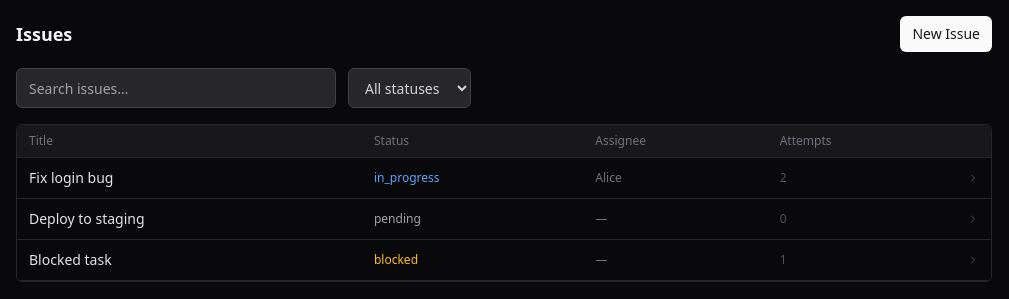
Test case: Issues status filter › "All statuses" option shows all issues
Check: the text "Fix login bug" is shown, box [17,158,362,198]
Step 1. Select "pending" in the dropdown → x=410, y=88, box [348,68,471,108]
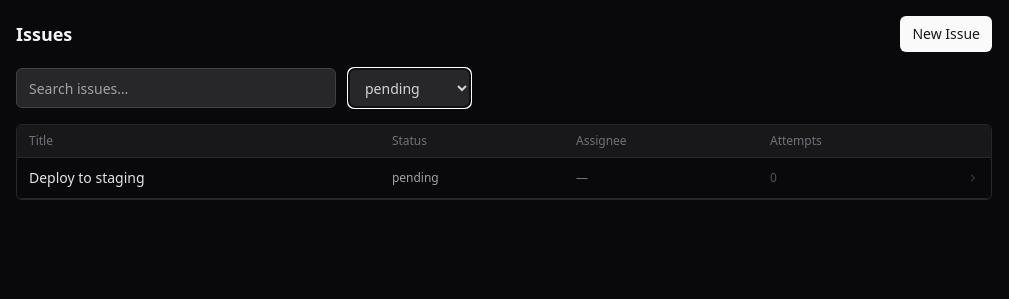
Step 2. Select "All statuses" in the dropdown → x=410, y=88, box [348,68,471,108]
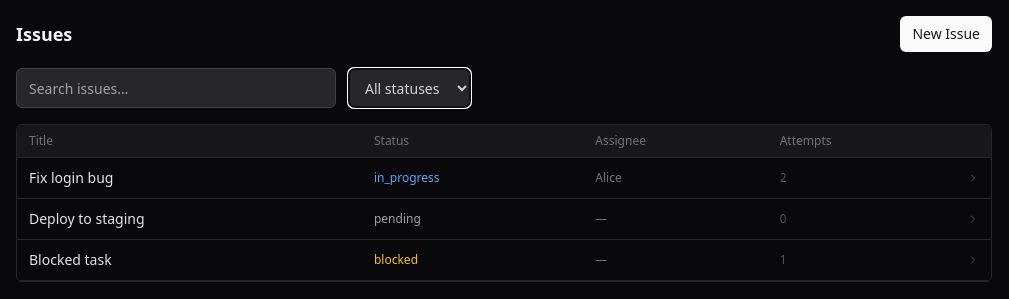
Check: the text "Deploy to staging" is shown, box [17,198,362,240]
Check: the text "Fix login bug" is shown, box [17,158,362,198]
